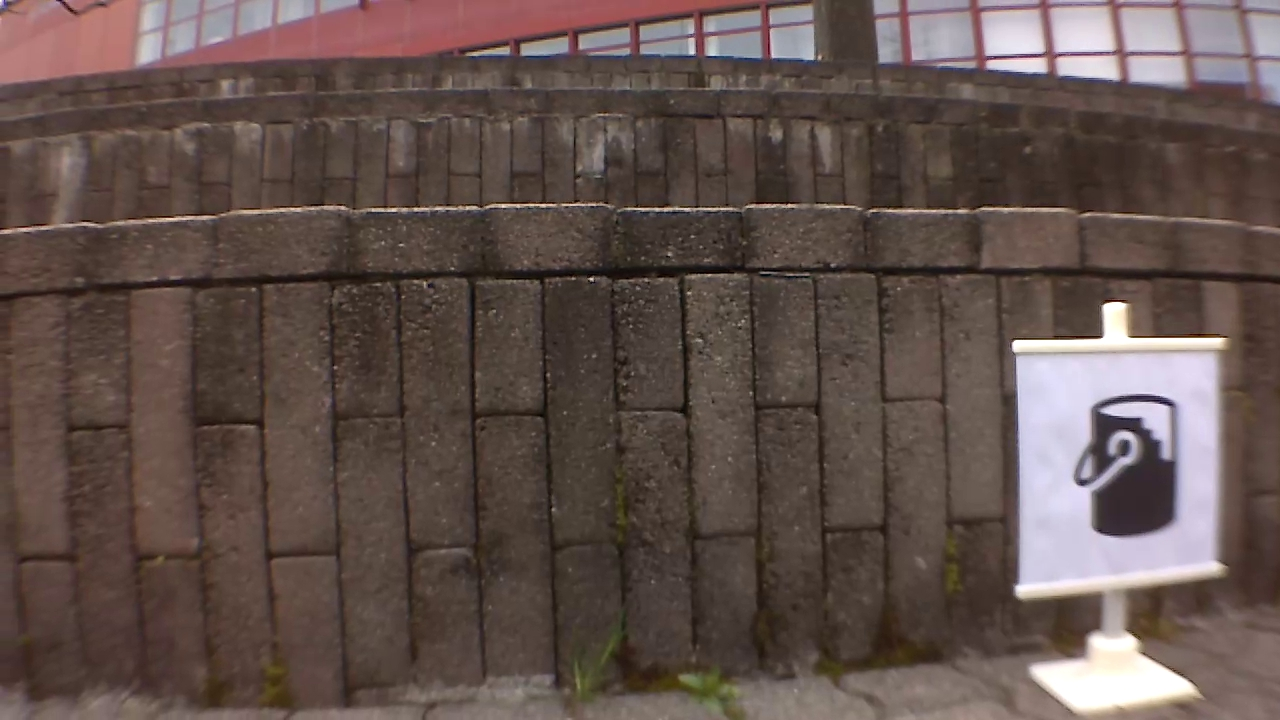bucket: (1071, 386, 1187, 533)
